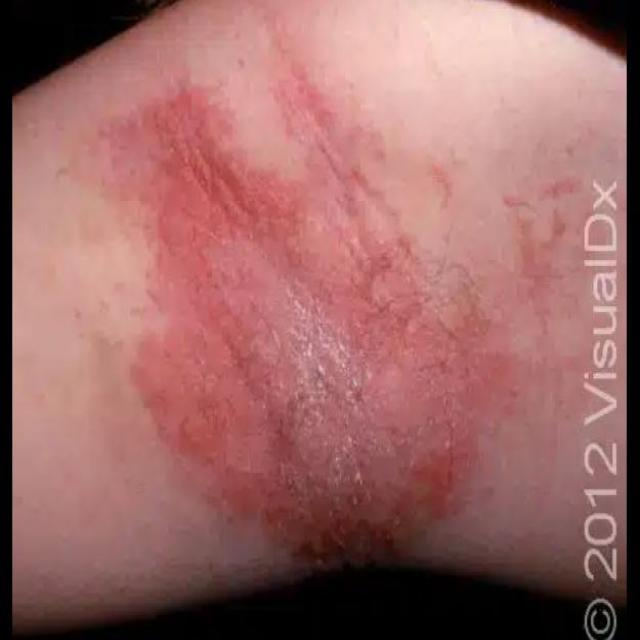Eczema: (80, 71, 578, 563)
